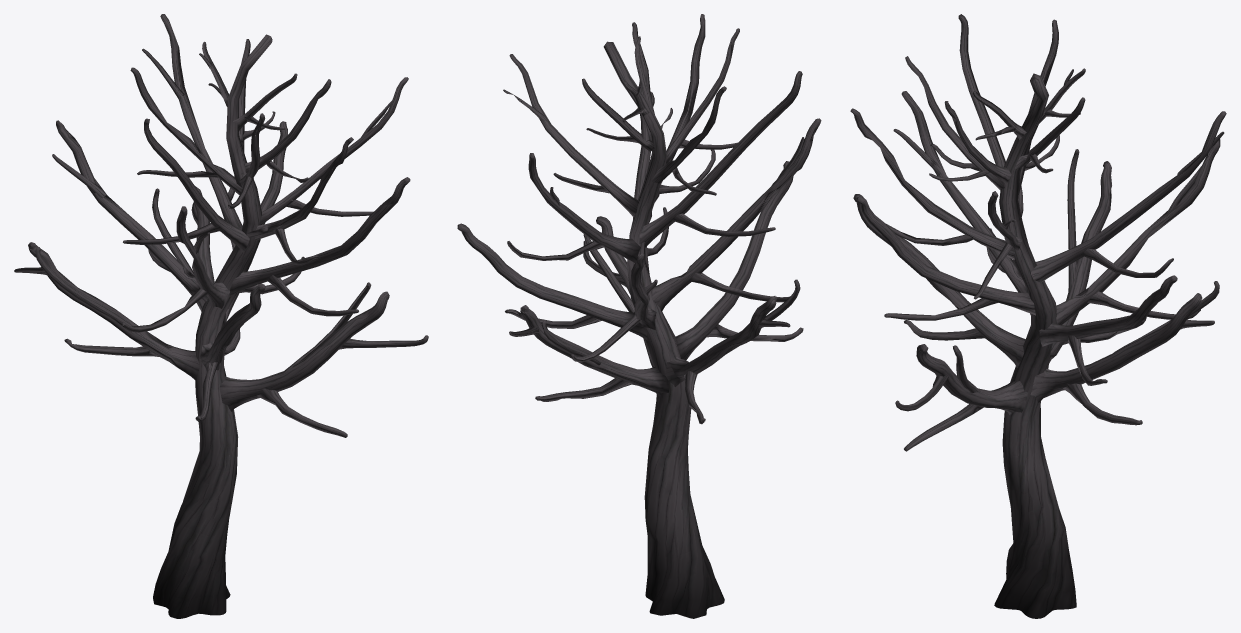
File: dead-tree-1.glb
The picture shows the model from 3 angles, left to right: view 1: azimuth 30°, elevation 25°; view 2: azimuth 150°, elevation 25°; view 3: azimuth 270°, elevation 25°; orthographic projection. The views are drawn at different scales.
Parts seen in each view (by area): view 1: DeadTree_1; view 2: DeadTree_1; view 3: DeadTree_1.
Part boxes in pixels (x1,y1,x2,y2): DeadTree_1: (14,14,428,618); DeadTree_1: (457,14,821,618); DeadTree_1: (850,14,1226,618).
Bounding box in the file's own units: 6.15 × 9.5 × 5.75.
1 material, 1 textured.
